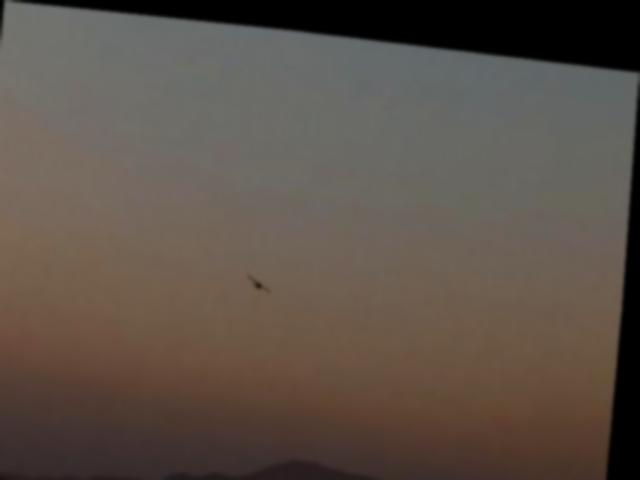uav: (247, 258, 281, 296)
